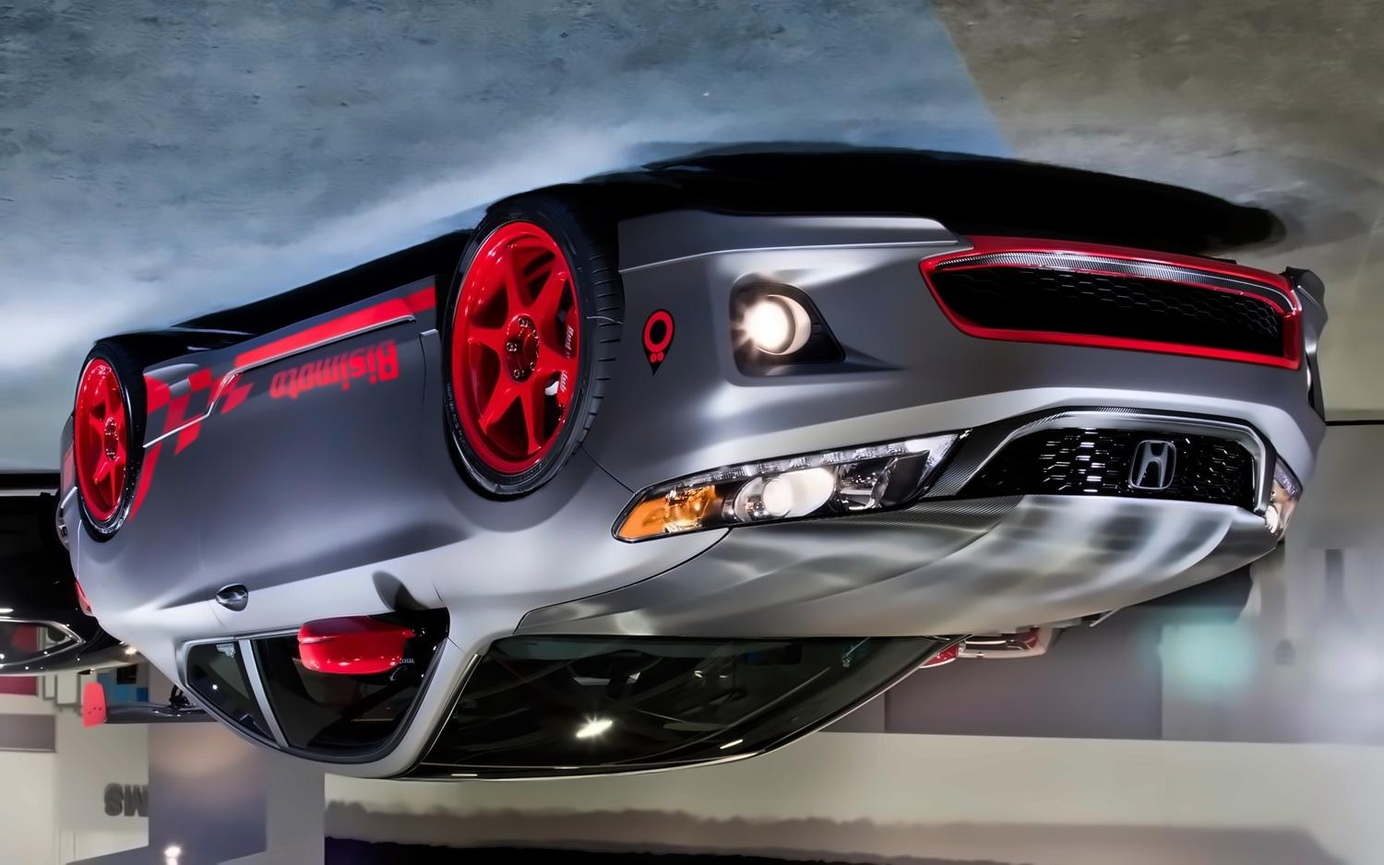Car hood: (502, 485, 1277, 647)
Fender - -F-L-: (413, 310, 730, 654)
Fender - -R-L-: (74, 411, 199, 712)
Front bumper: (620, 192, 1339, 479)
Headlight - -L-: (612, 428, 969, 547)
Headlight - -R-: (1258, 460, 1307, 541)
Passenger-s door - -F-L-: (193, 278, 510, 776)
Side bumper - -L-: (125, 240, 467, 452)
Side mirror - -L-: (293, 598, 456, 684)
